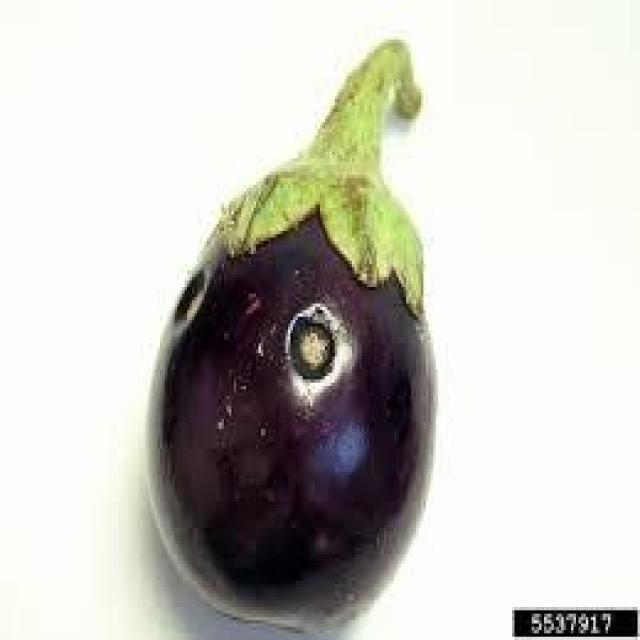Eggplant: (145, 40, 438, 639)
